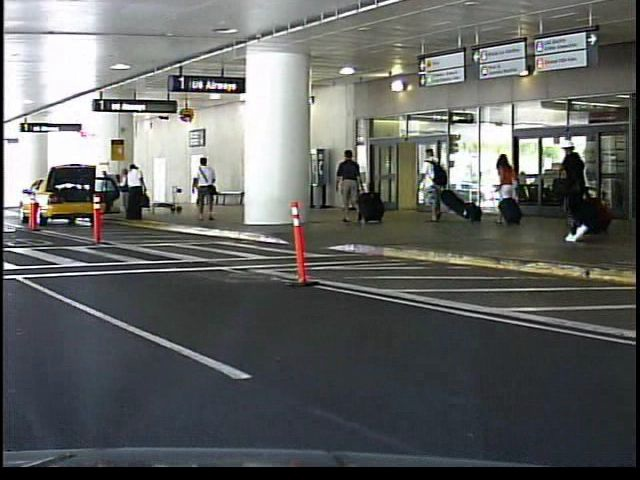person: (550, 131, 598, 243), (492, 145, 527, 230), (413, 142, 450, 222), (336, 143, 367, 226), (193, 154, 225, 227), (186, 164, 208, 211)
